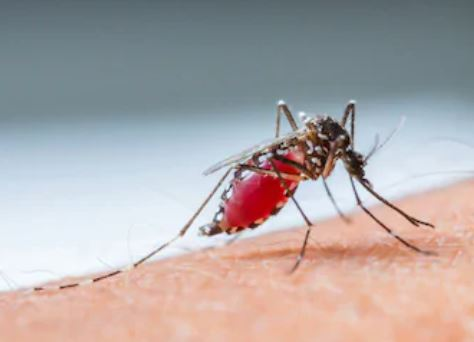dengue_mosquito: (175, 100, 408, 246)
